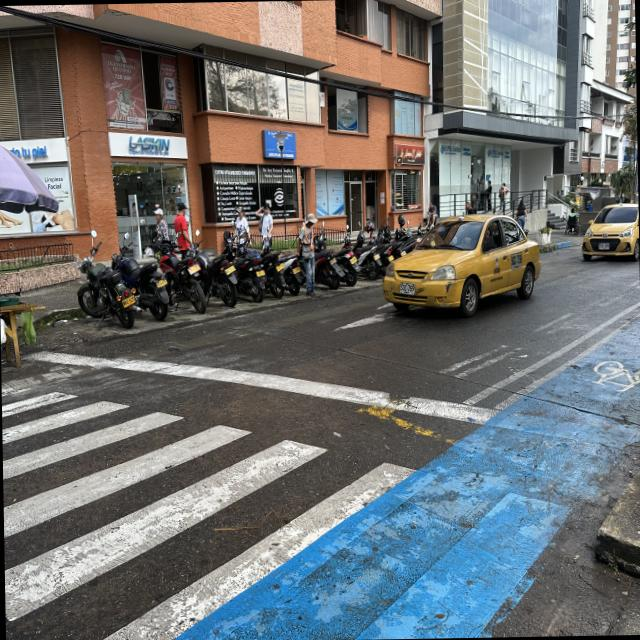number plate: (121, 294, 136, 308), (399, 282, 415, 295), (155, 277, 168, 289), (187, 263, 200, 274), (224, 265, 236, 275), (275, 262, 285, 272), (255, 269, 265, 277), (598, 242, 609, 249), (292, 266, 300, 274), (349, 256, 357, 264), (329, 257, 336, 265), (373, 253, 380, 260), (388, 255, 394, 261)
